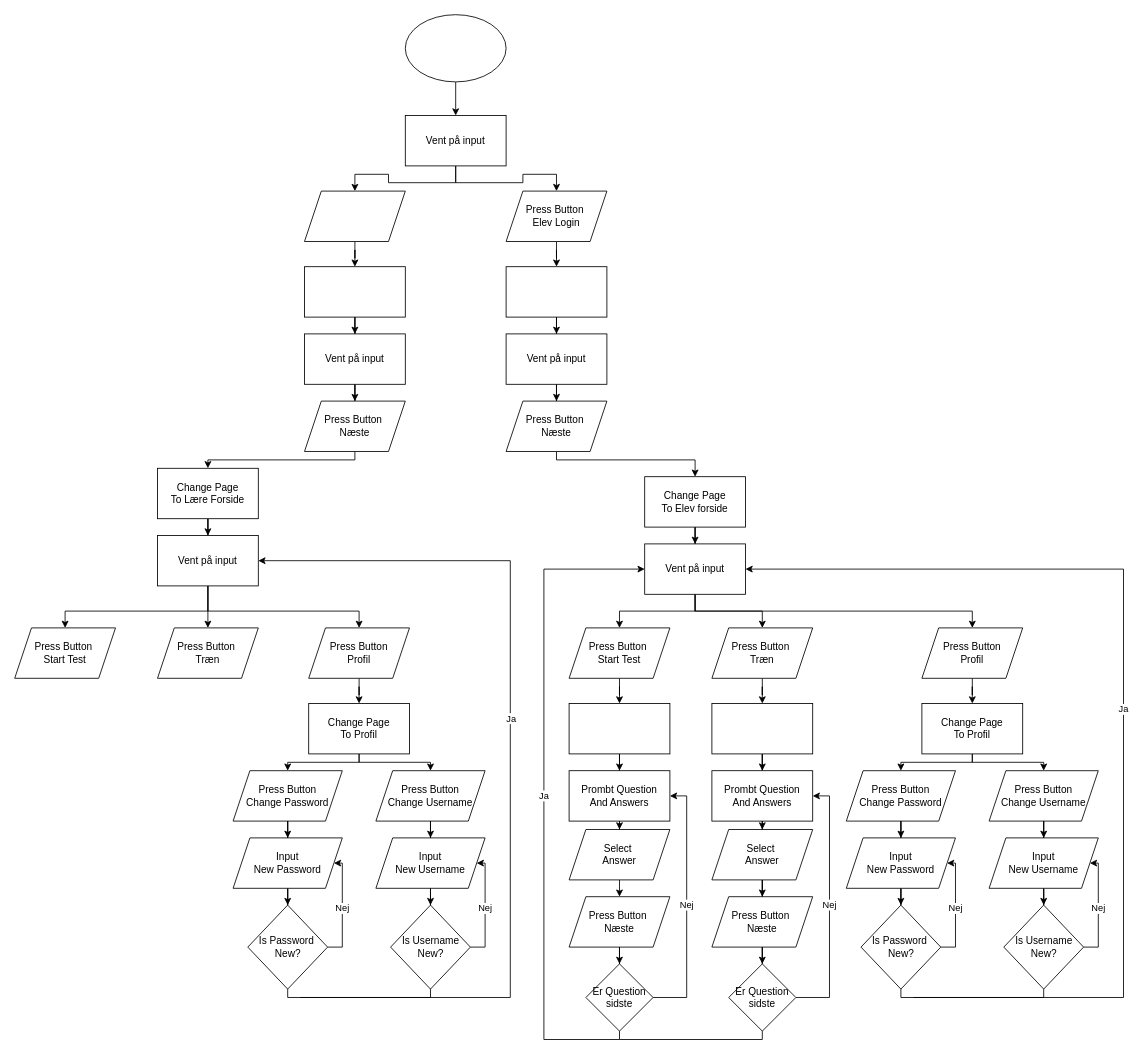
Some shapes in this 1145 by 1061 pixel diagram are drawn without their labels. Here are the shapes that lost their labels. From the top down, the centre of each, then its label:
At (x=455, y=48): "START".
At (x=354, y=216): "Press Button Lære login".
At (x=354, y=291): "Change Page To Lære Login".
At (x=556, y=291): "Change Page To Elev Login".
At (x=619, y=728): "Change Page To Test".
At (x=762, y=728): "Change Page To Træning".
